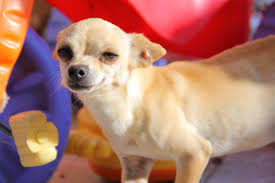chihuahua: (47, 12, 265, 173)
